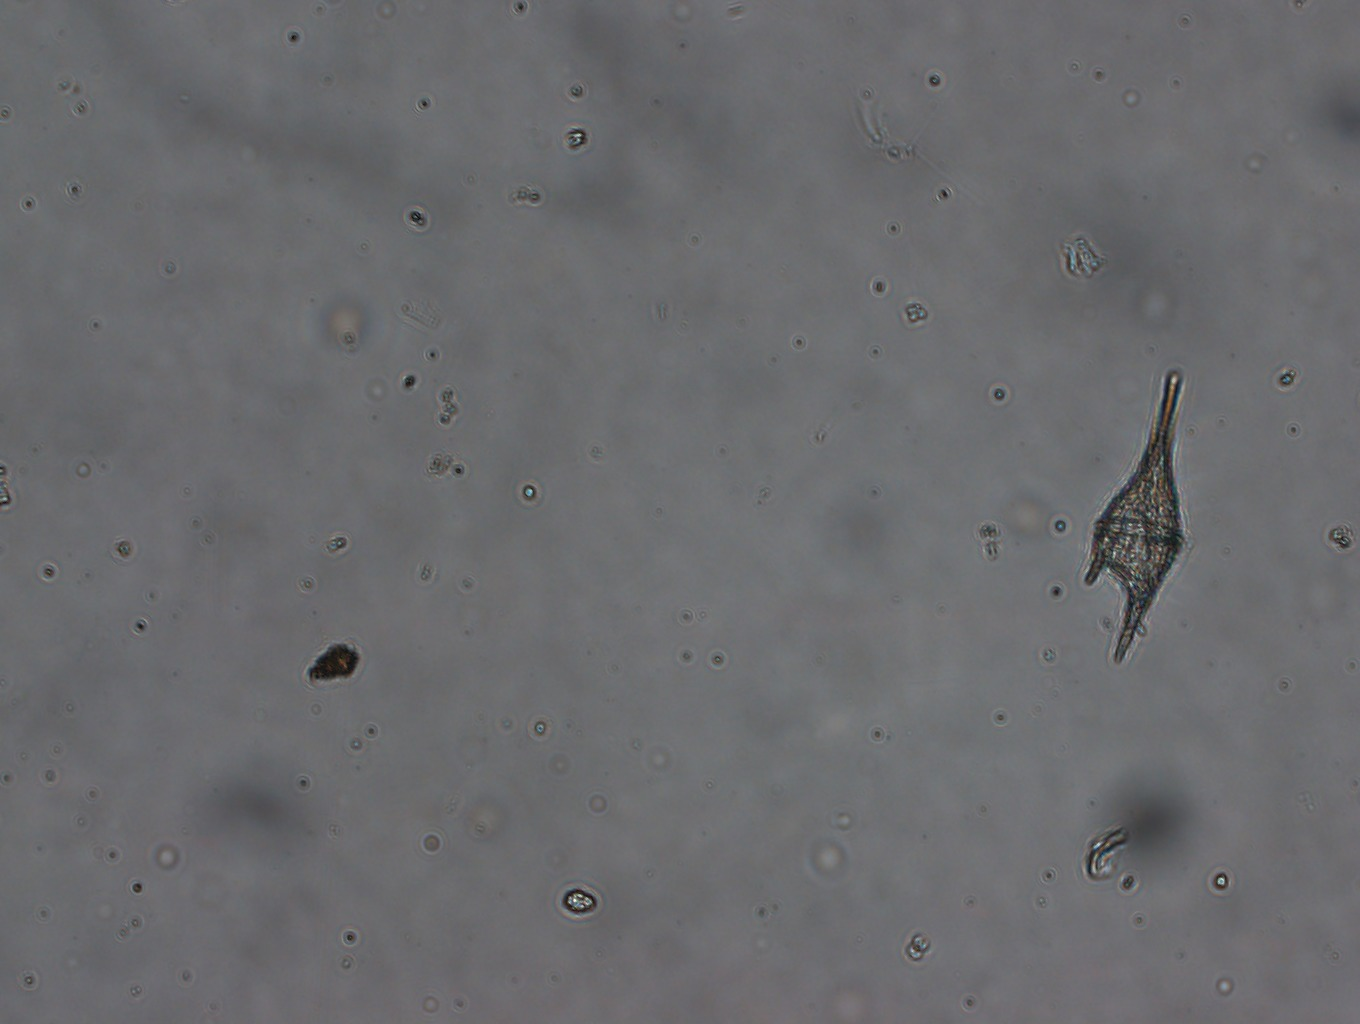ceratium furca: (1080, 355, 1194, 663)
